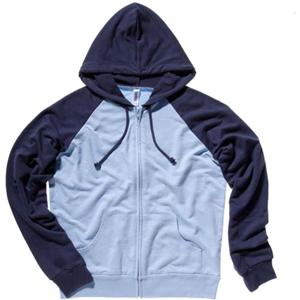C_jacket: (5, 1, 287, 296)
